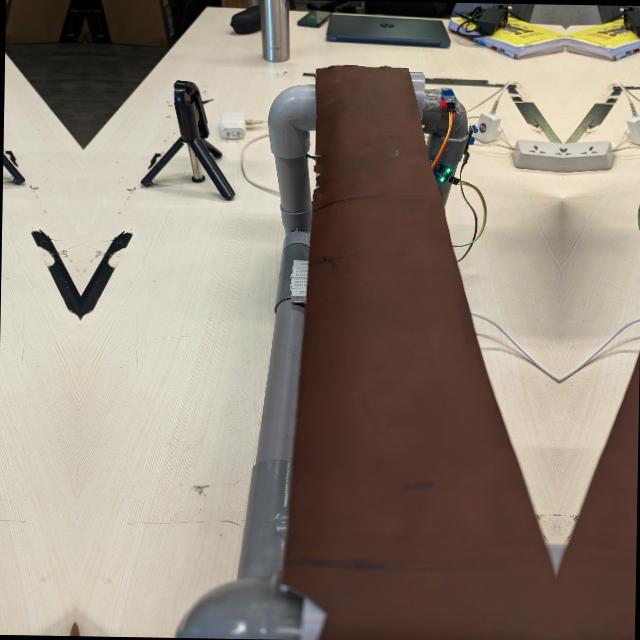belt_tear: (268, 559, 335, 640)
edge_damage: (300, 142, 333, 213)
